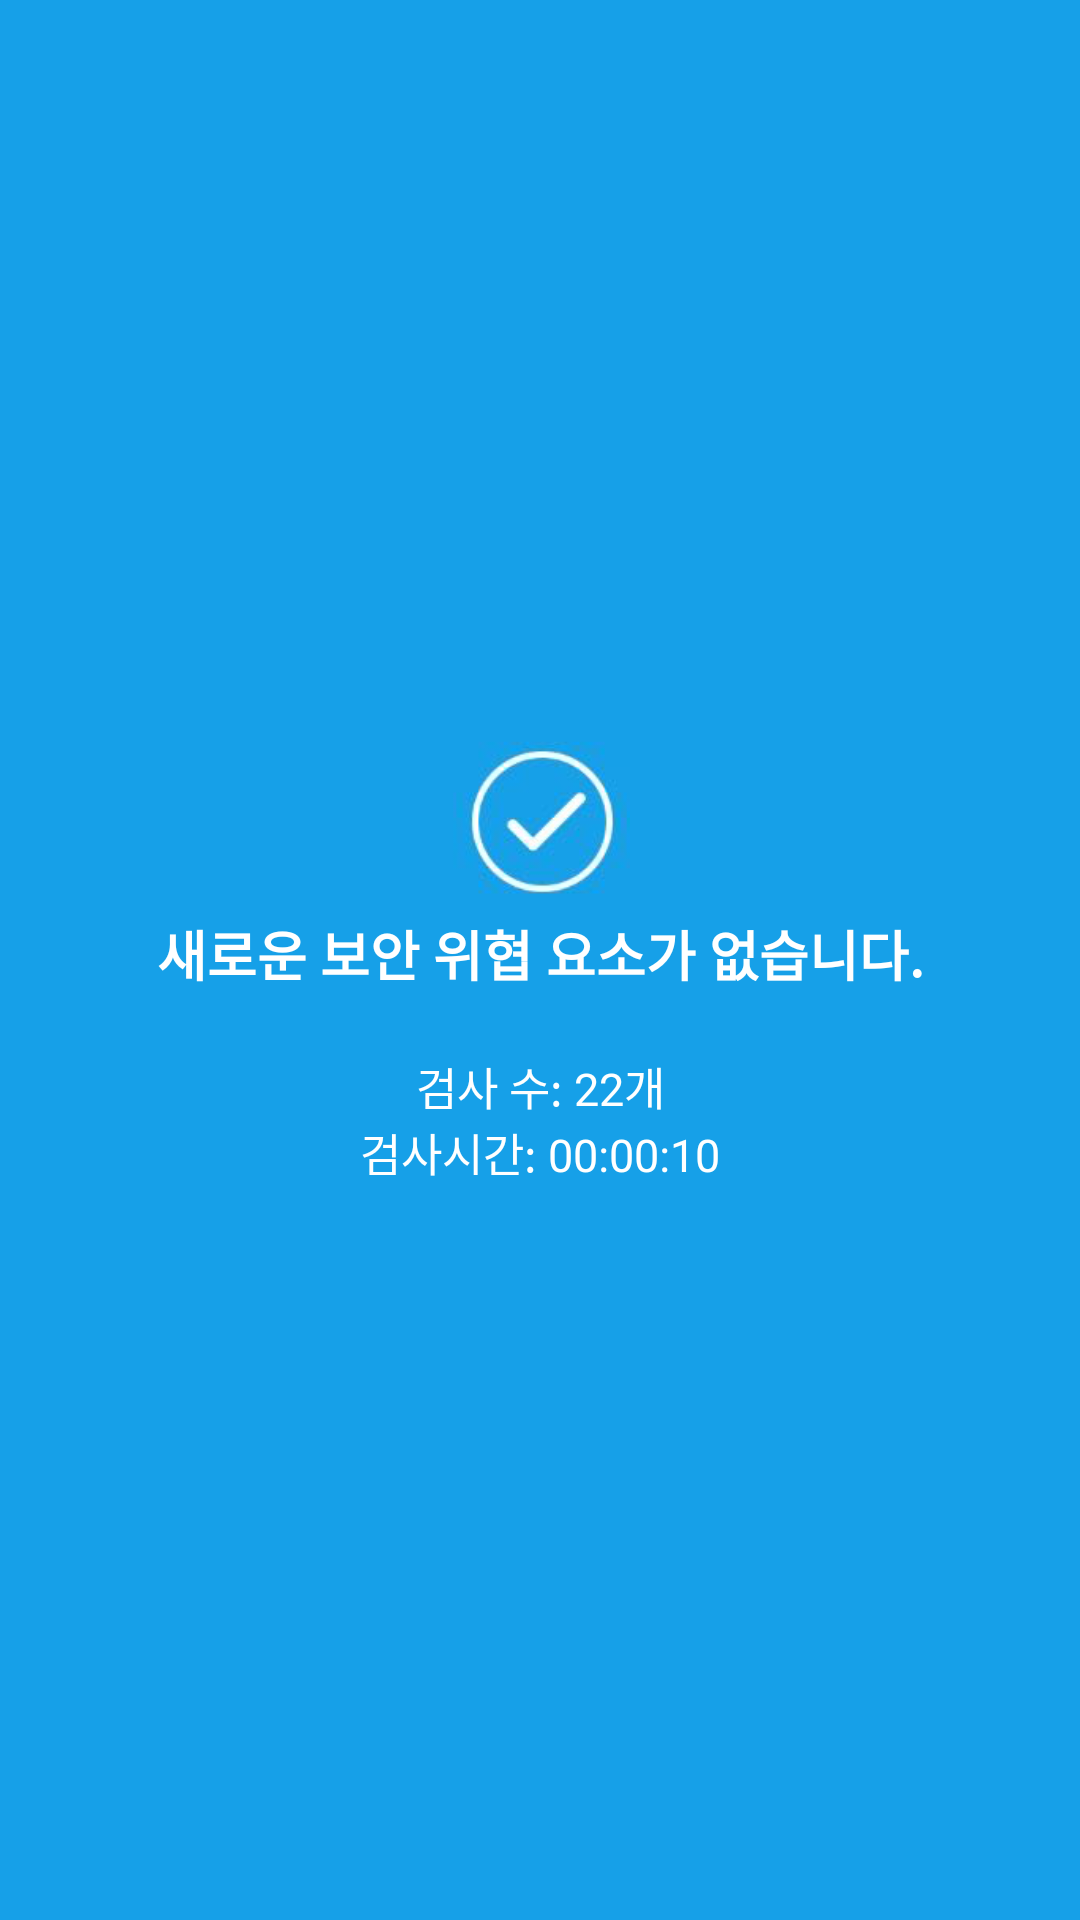

Icons on this 1080px x 1920px Android screen, each with the point to tap as (x,y):
check: (543,821)
